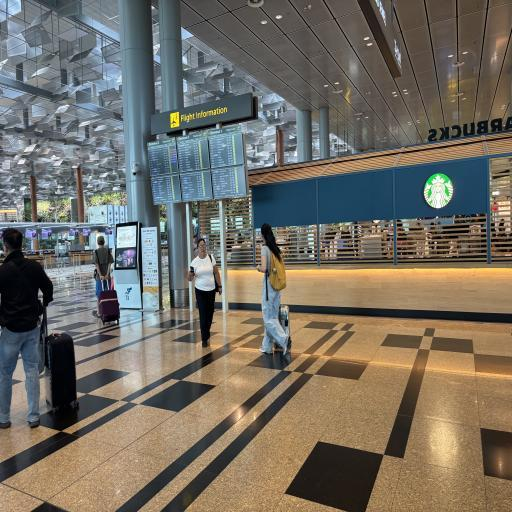person_with_luggage_left: (2, 210, 82, 440), (252, 216, 300, 359)
